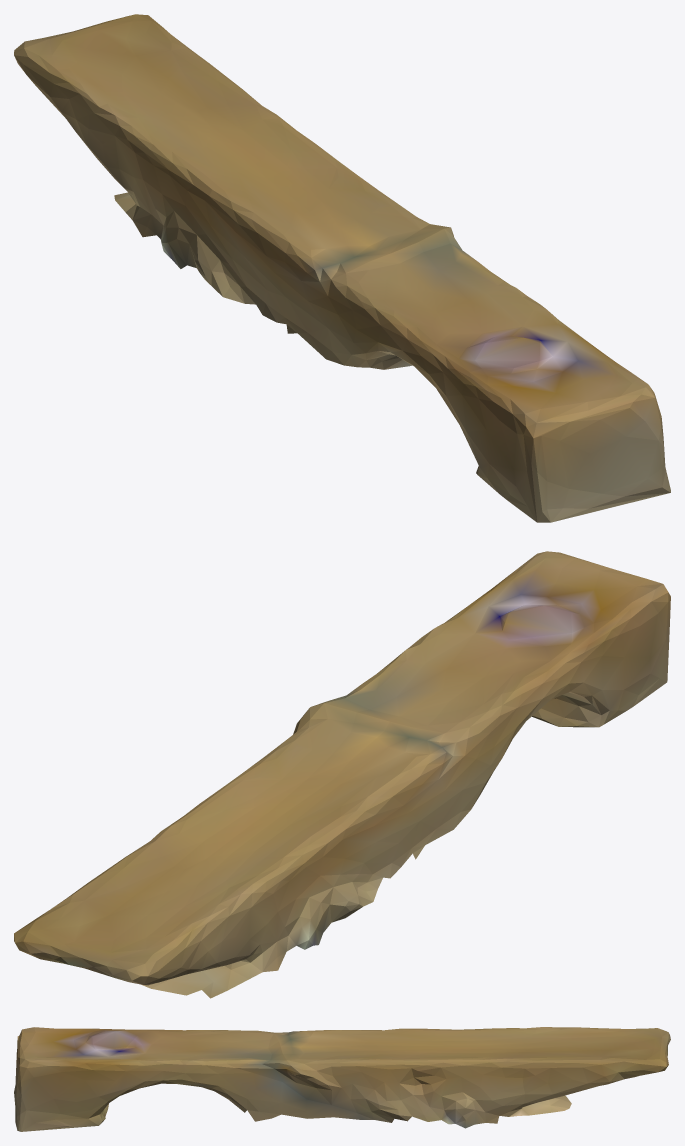
File: scan.obj
The picture shows the model from 3 angles, top to bottom: view 1: azimuth 30°, elevation 25°; view 2: azimuth 150°, elevation 25°; view 3: azimuth 270°, elevation 25°; orthographic projection. The views are drawn at different scales.
Parts seen in each view (by area): view 1: scan.ply; view 2: scan.ply; view 3: scan.ply.
Boxes of the visible parts, x1=… form: scan.ply: x1=14, y1=14, x2=670, y2=522; scan.ply: x1=14, y1=551, x2=670, y2=998; scan.ply: x1=14, y1=1027, x2=670, y2=1131.
Size of the model in its own units: 0.0149 by 0.00996 by 0.0876.
